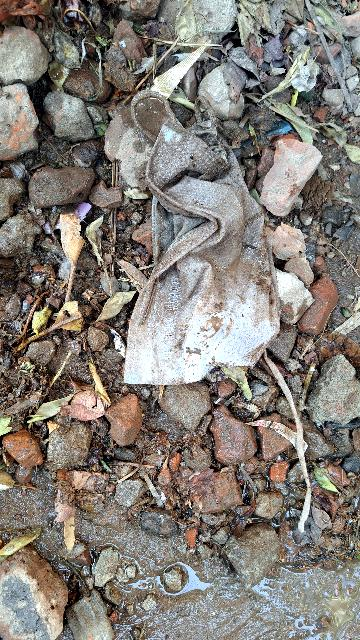mask: (77, 106, 295, 375)
